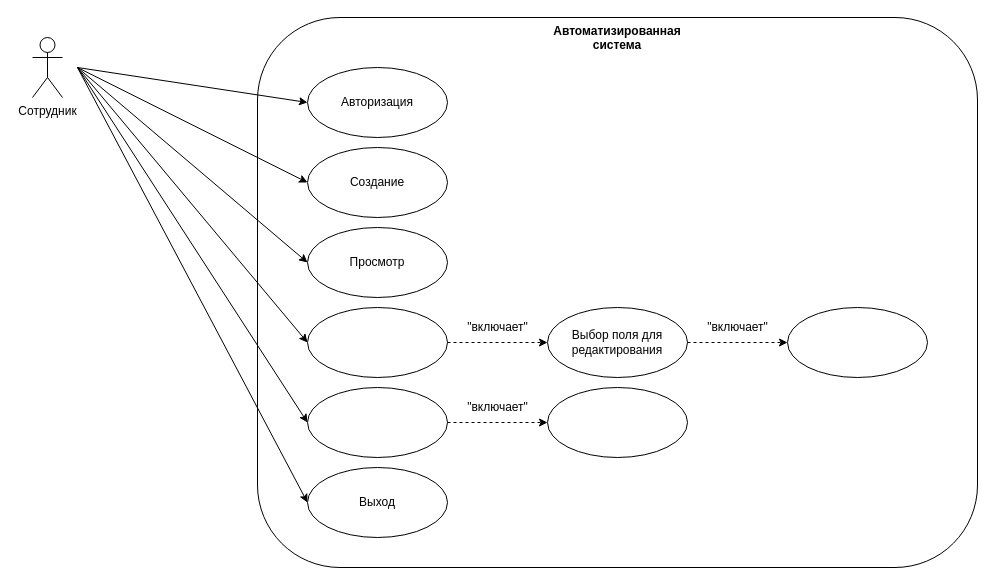
The diagram is 995 pixels wide and 585 high, and some of its shapes have lost their labels. Each missing label, with the centre of its shape:
"Внесение изменений в поле" goes at point (857, 342).
"Подтверждение удаления" goes at point (617, 422).
"Редактирование" goes at point (377, 342).
"Удаление" goes at point (377, 422).
